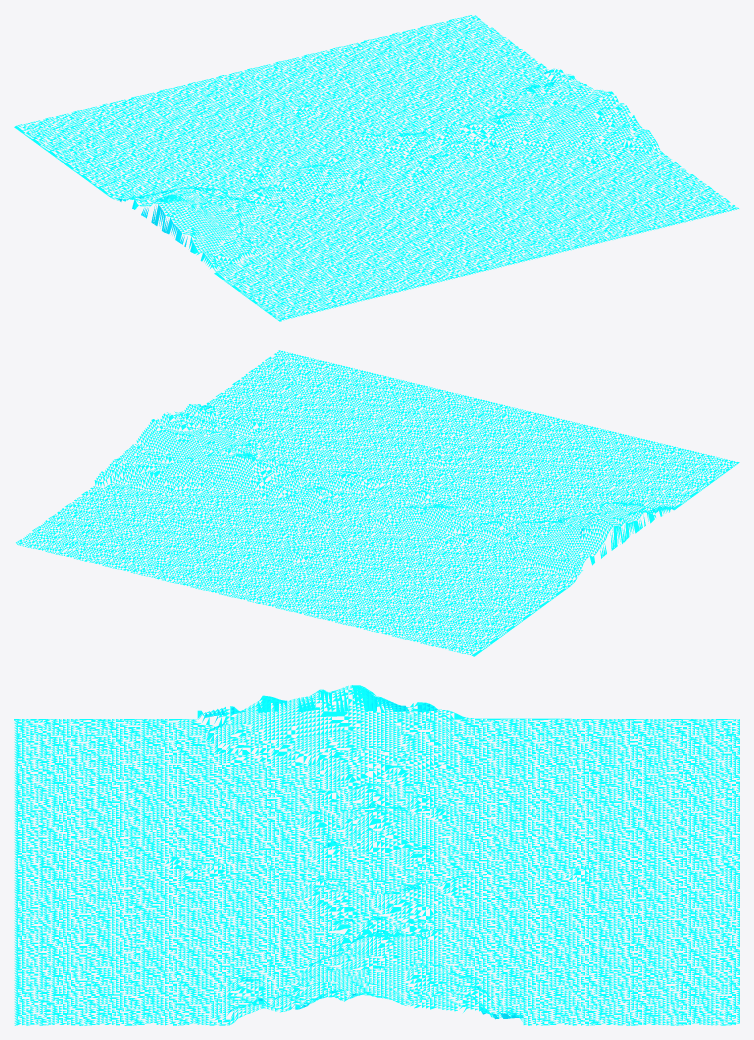
Rendered from 08_NE_passage.glb.
The picture shows the model from 3 angles, top to bottom: view 1: azimuth 30°, elevation 25°; view 2: azimuth 150°, elevation 25°; view 3: azimuth 270°, elevation 25°; orthographic projection. The views are drawn at different scales.
Visible parts, largest first — view 1: Terrain; view 2: Terrain; view 3: Terrain.
Part boxes in pixels (x1,y1,x2,y2): Terrain: (14, 15, 738, 321); Terrain: (16, 350, 739, 656); Terrain: (14, 685, 739, 1025).
Size of the model in its own units: 1596 by 103 by 1596.
